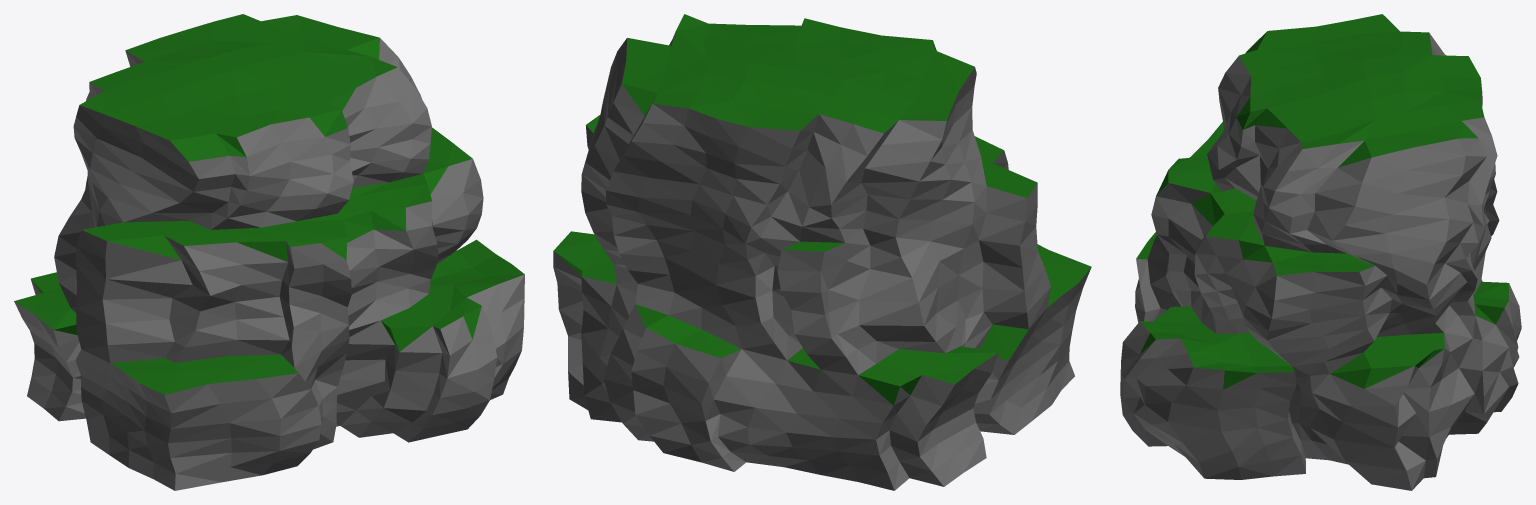
File: Wallrock4.fbx
3 views of the same model, side by side, from view 1: azimuth 30°, elevation 25°; view 2: azimuth 150°, elevation 25°; view 3: azimuth 270°, elevation 25° (orthographic). The views are drawn at different scales.
Parts seen in each view (by area): view 1: Plane.004, Plane.005; view 2: Plane.004, Plane.005; view 3: Plane.004, Plane.005.
Part boxes in pixels (bbox=[...]): Plane.004: bbox=[14, 38, 524, 490]; Plane.005: bbox=[14, 14, 524, 394]; Plane.004: bbox=[553, 33, 1091, 490]; Plane.005: bbox=[553, 14, 1091, 405]; Plane.004: bbox=[1120, 33, 1521, 490]; Plane.005: bbox=[1136, 14, 1508, 389].
Bounding box in the file's own units: 2582 × 2082 × 2311.
